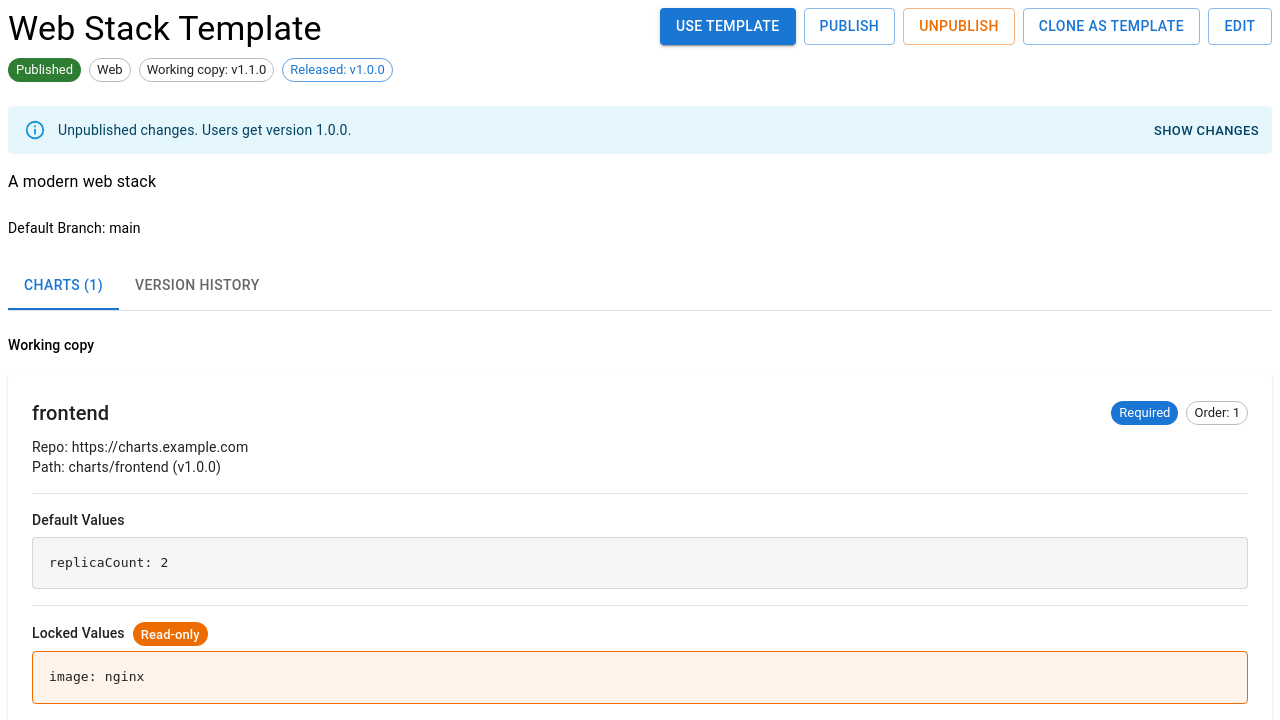
Test case: Templates Preview › shows an error in the changes dialog when the diff fails
Click the button "Show changes". click: (1206, 131)
box: [1149,116,1264,147]
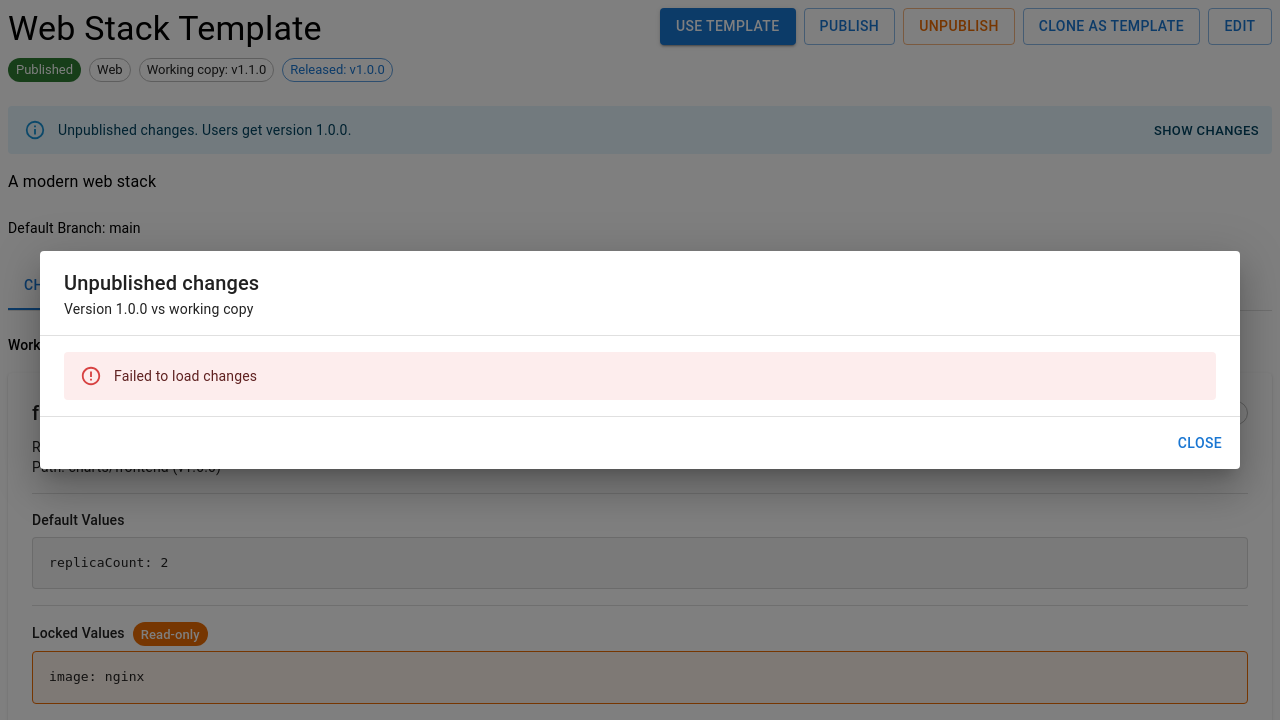
Expected: the text "Failed to load changes" is shown, [114,368,257,384]
